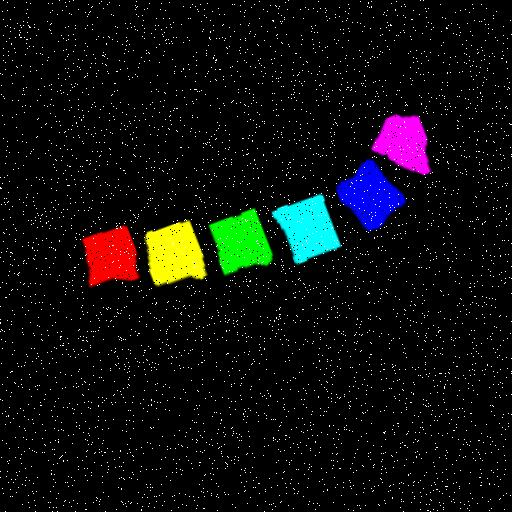L1: (78, 224, 135, 285)
L2: (141, 218, 202, 284)
L3: (206, 208, 269, 275)
L4: (270, 195, 336, 264)
L5: (333, 161, 402, 232)
S1: (368, 116, 427, 176)
